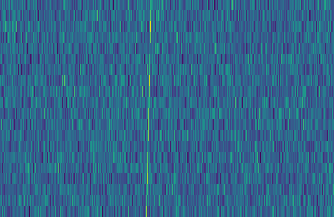signal: (141, 0, 155, 217)
